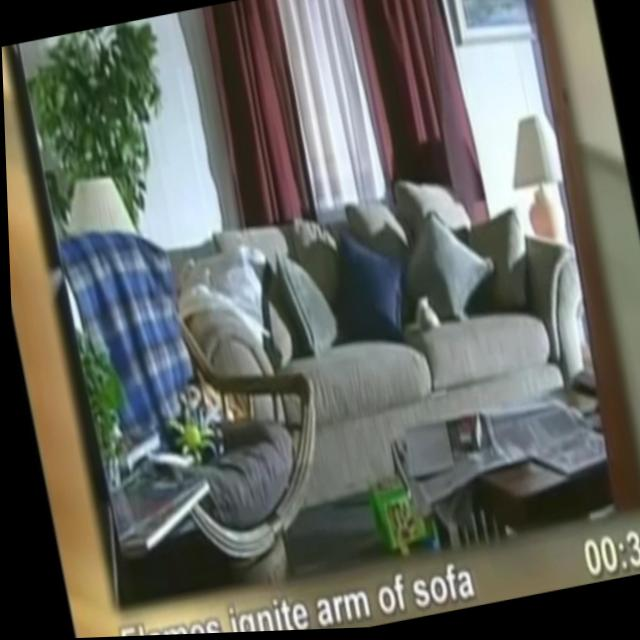fire: (195, 365, 246, 429)
